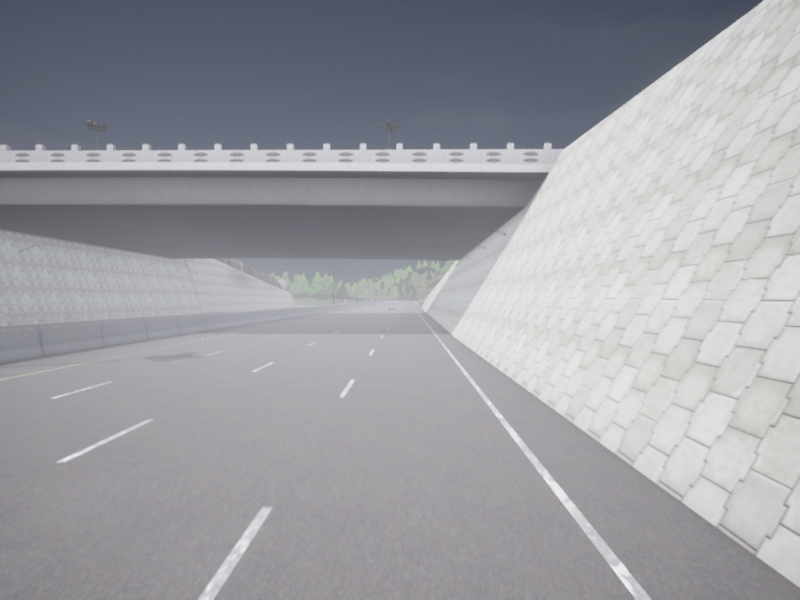vehicle: (388, 303, 395, 309)
